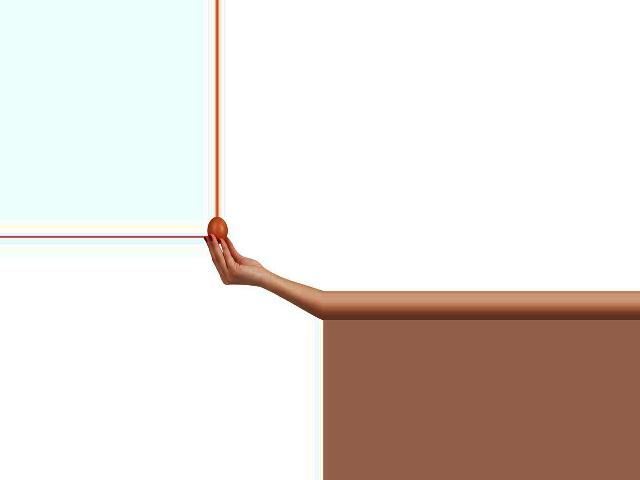egg: (207, 217, 228, 243)
